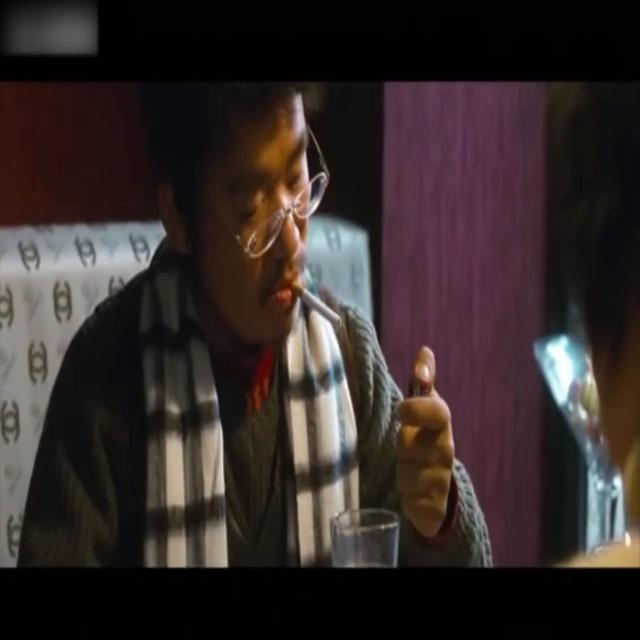smoking: (287, 277, 342, 326)
